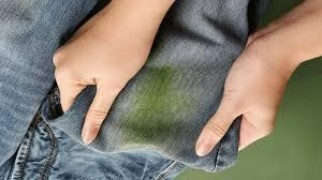earth: (134, 80, 181, 143)
